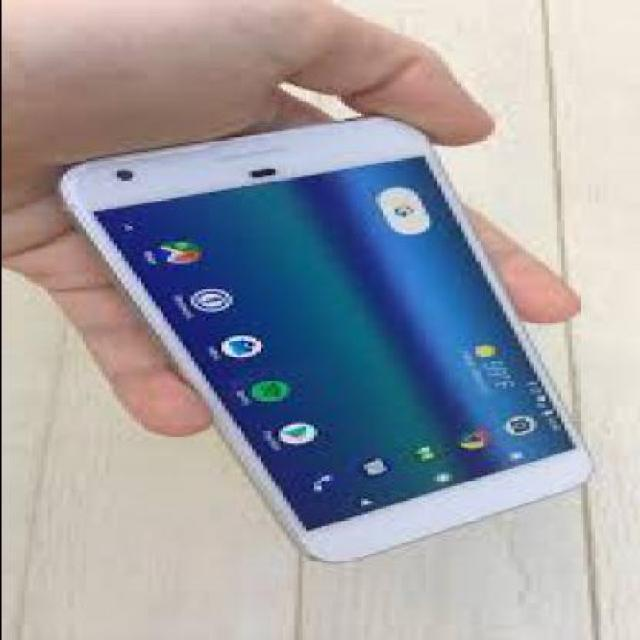phone: (54, 114, 594, 566)
